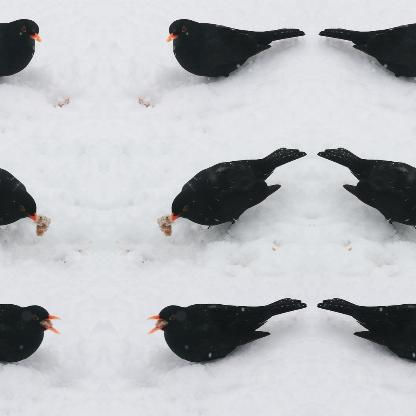Bird: (167, 146, 307, 233), (146, 294, 304, 364), (158, 13, 312, 79), (317, 146, 415, 234), (319, 293, 415, 365), (312, 13, 415, 80), (0, 293, 63, 365), (0, 146, 42, 234), (0, 13, 50, 80)
